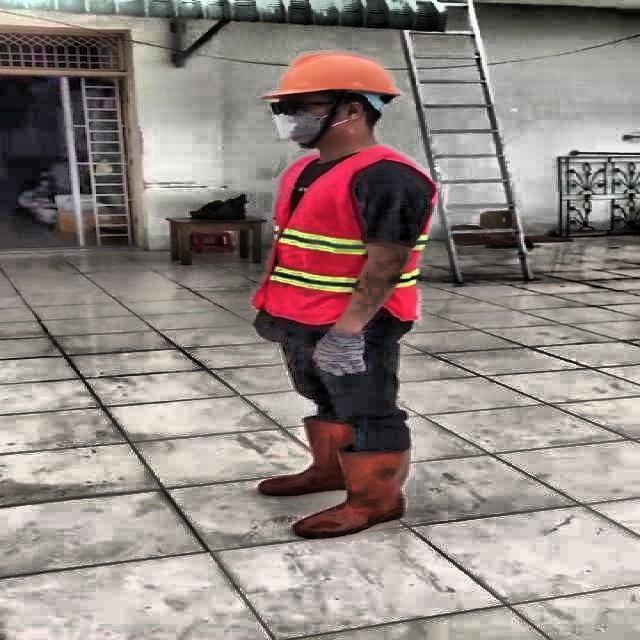safety_helmet: (259, 49, 406, 104)
safety_jacket: (259, 154, 426, 326)
